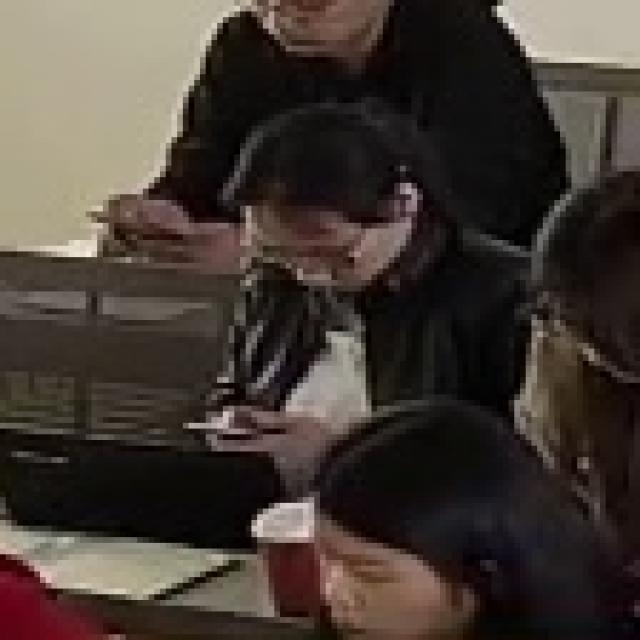phone: (185, 108, 524, 484), (85, 5, 591, 236)
